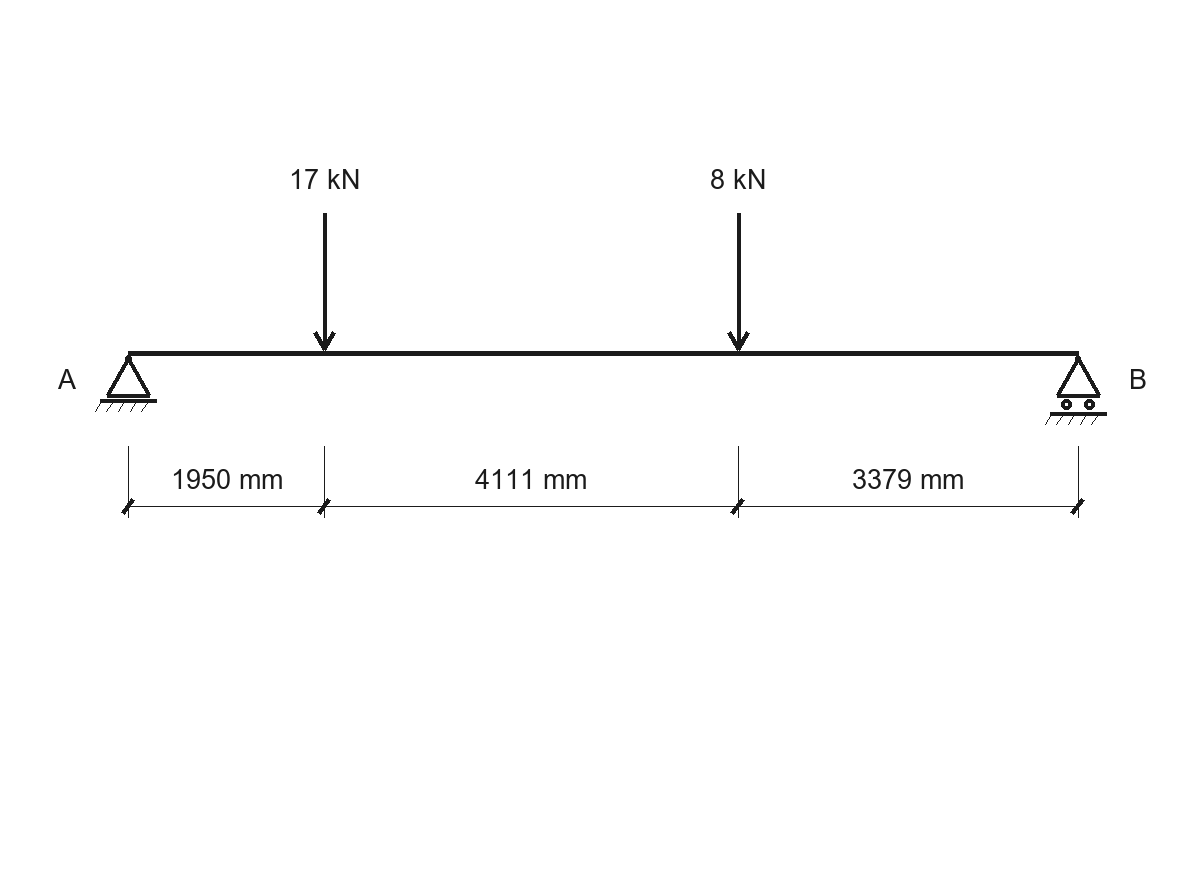pin_support: (95, 355, 157, 412)
point_load: (313, 213, 336, 351), (727, 213, 750, 351)
roller_support: (1045, 355, 1107, 425)
